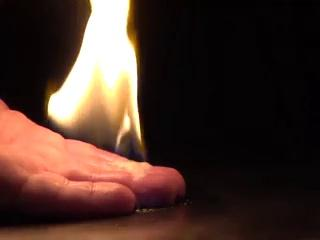Fire: (78, 12, 136, 161)
